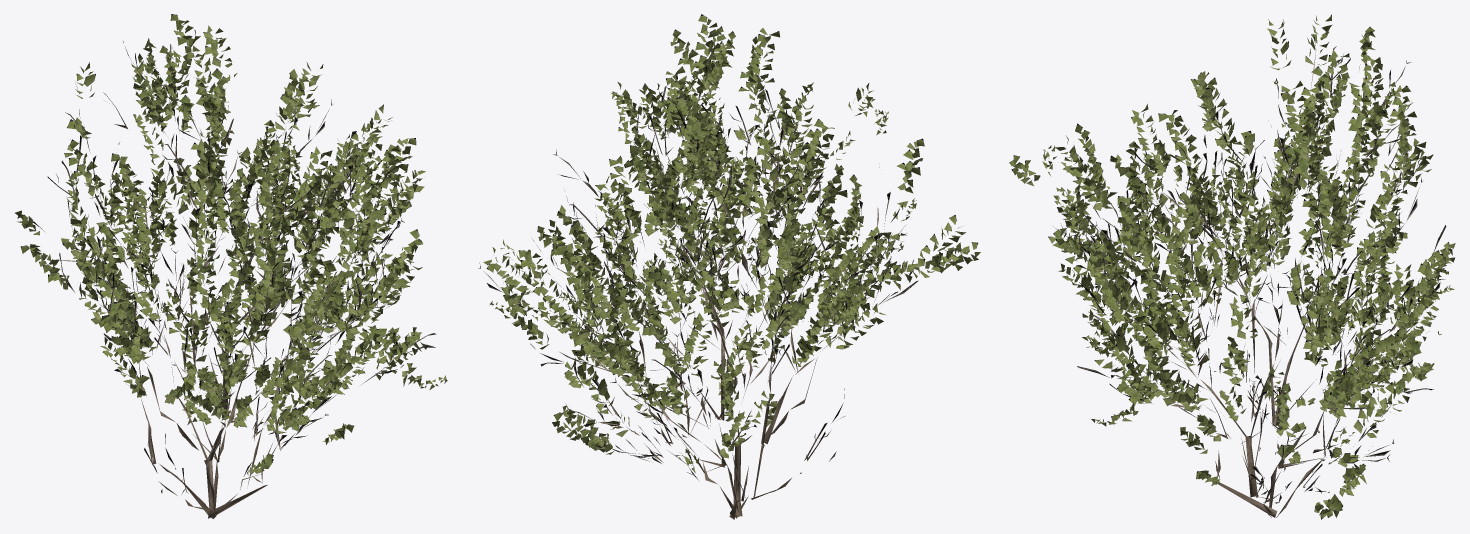
Rendered from searsia_lucida.glb.
3 renders of one model, left to right at view 1: azimuth 30°, elevation 25°; view 2: azimuth 150°, elevation 25°; view 3: azimuth 270°, elevation 25°, orthographic. The views are drawn at different scales.
Visible parts, largest first — view 1: searsia_lucida_a_LOD0; view 2: searsia_lucida_a_LOD0; view 3: searsia_lucida_a_LOD0.
Part boxes in pixels (x1,y1,x2,y2): searsia_lucida_a_LOD0: [15, 14, 447, 518]; searsia_lucida_a_LOD0: [478, 14, 980, 519]; searsia_lucida_a_LOD0: [1009, 14, 1455, 519].
Bounding box in the file's own units: 1.79 × 2.32 × 1.87.
Materials: 2 (2 with a texture image).
